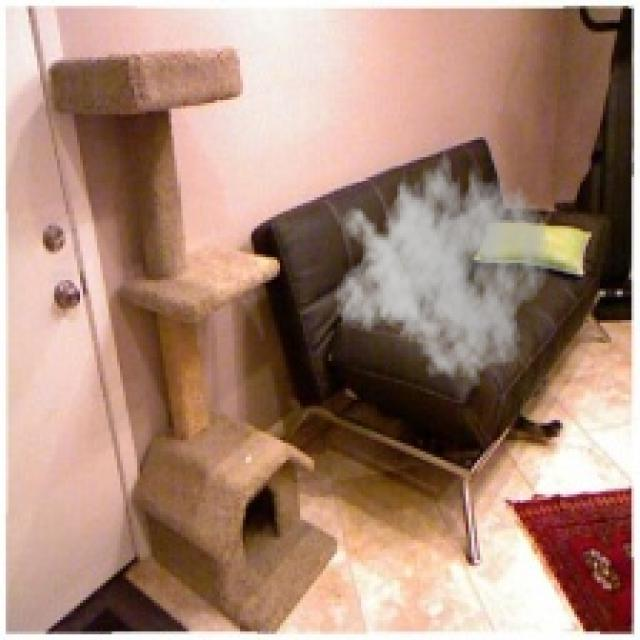smoke: (334, 137, 552, 389)
